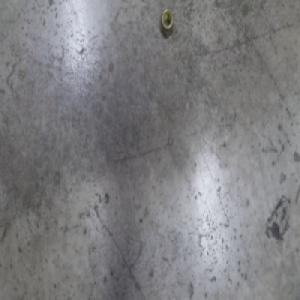Nut: (160, 6, 175, 38)
